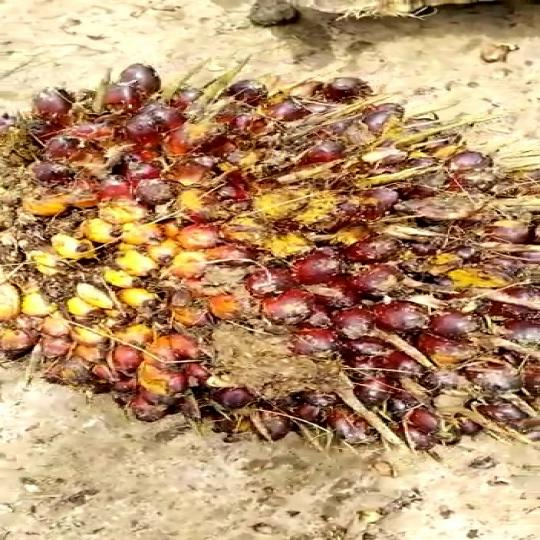masak: (0, 63, 540, 462)
